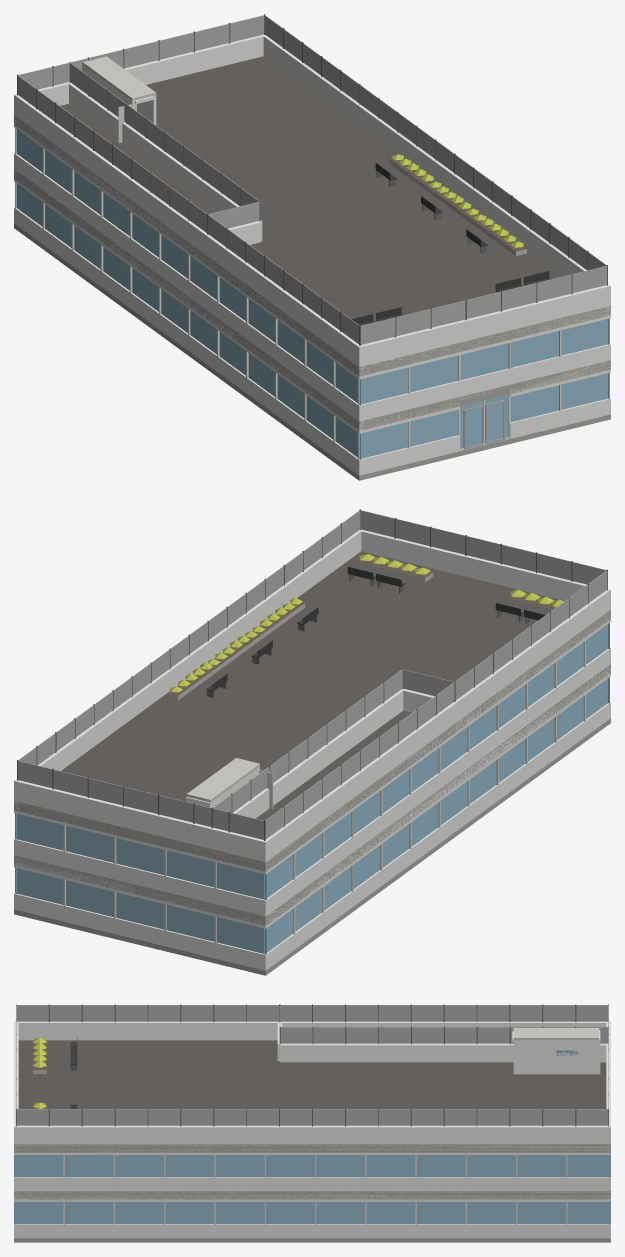
Rendered from dorm.fbx.
3 renders of one model, top to bottom at view 1: azimuth 30°, elevation 25°; view 2: azimuth 150°, elevation 25°; view 3: azimuth 270°, elevation 25°, orthographic. The views are drawn at different scales.
Parts seen in each view (by area): view 1: wall_dorm, floor_dorm, furn_dorm_10_roofrail, furn_dorm_17_roof; view 2: wall_dorm, floor_dorm, furn_dorm_10_roofrail, furn_dorm_17_roof; view 3: wall_dorm, floor_dorm, furn_dorm_10_roofrail, furn_dorm_17_roof.
Boxes of the visible parts, bbox=[...] form: wall_dorm: bbox=[14, 34, 610, 475]; floor_dorm: bbox=[14, 56, 610, 480]; furn_dorm_10_roofrail: bbox=[17, 14, 607, 345]; furn_dorm_17_roof: bbox=[351, 154, 551, 325]; wall_dorm: bbox=[14, 529, 610, 970]; floor_dorm: bbox=[14, 551, 610, 975]; furn_dorm_10_roofrail: bbox=[17, 509, 607, 840]; furn_dorm_17_roof: bbox=[167, 554, 563, 700]; wall_dorm: bbox=[14, 1021, 610, 1238]; floor_dorm: bbox=[14, 1040, 610, 1242]; furn_dorm_10_roofrail: bbox=[16, 1004, 608, 1126]; furn_dorm_17_roof: bbox=[33, 1037, 577, 1108].
Size of the model in its own units: 16 by 9.46 by 38.
